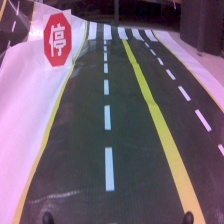stop: (41, 7, 74, 70)
